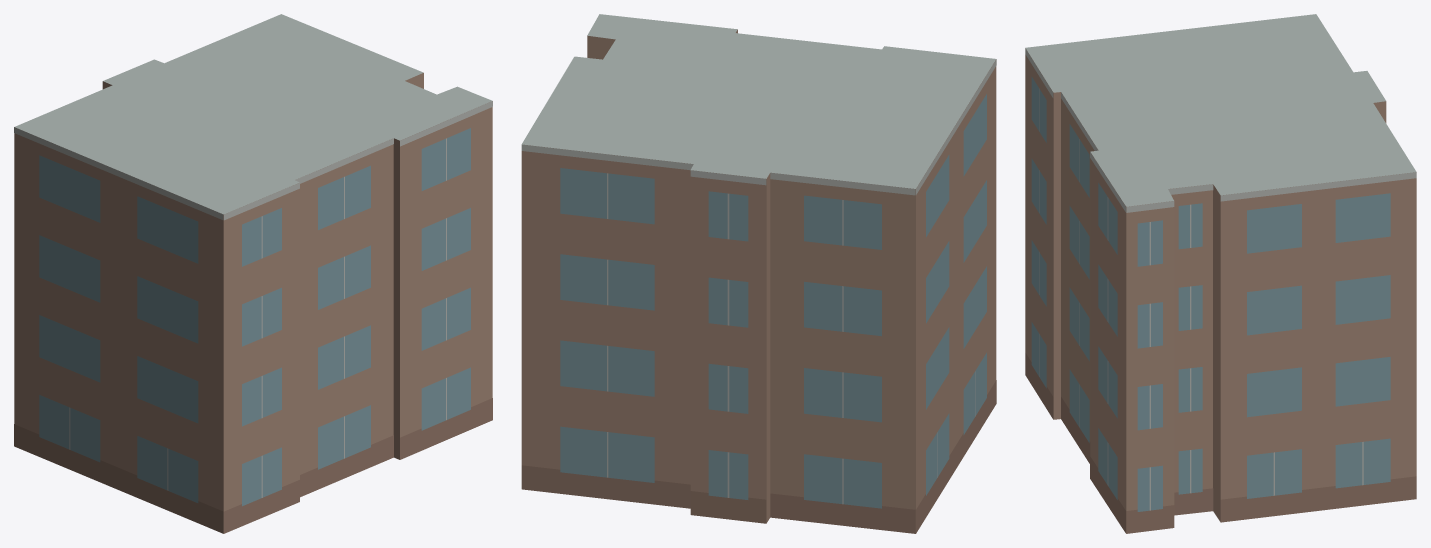
Rendered from survey-upis-32704947.glb.
3 renders of one model, left to right at view 1: azimuth 30°, elevation 25°; view 2: azimuth 150°, elevation 25°; view 3: azimuth 270°, elevation 25°, orthographic. The views are drawn at different scales.
Visible parts, largest first — view 1: survey-upis-32704947.tmp; view 2: survey-upis-32704947.tmp; view 3: survey-upis-32704947.tmp.
Boxes of the visible parts, <box> form: survey-upis-32704947.tmp: <box>14,14,492,533</box>; survey-upis-32704947.tmp: <box>521,14,996,533</box>; survey-upis-32704947.tmp: <box>1025,14,1416,533</box>.
Size of the model in its own units: 16.38 by 12.95 by 14.05.
